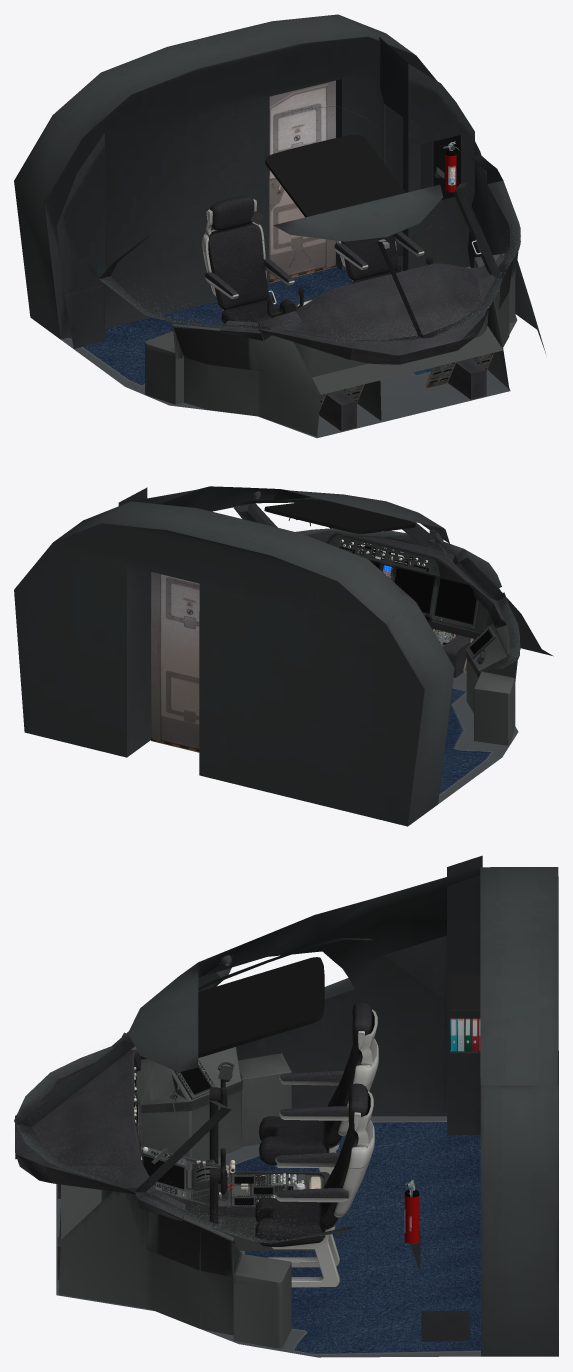
File: interior.gltf
3 renders of one model, top to bottom at view 1: azimuth 30°, elevation 25°; view 2: azimuth 150°, elevation 25°; view 3: azimuth 270°, elevation 25°, orthographic. The views are drawn at different scales.
Visible parts, largest first — view 1: Interior; view 2: Interior; view 3: Interior.
Boxes of the visible parts, x1=… form: Interior: x1=14, y1=14, x2=545, y2=438; Interior: x1=14, y1=486, x2=553, y2=826; Interior: x1=14, y1=855, x2=558, y2=1357.
Size of the model in its own units: 3.69 by 2.05 by 3.29.
75 materials, 72 textured.
